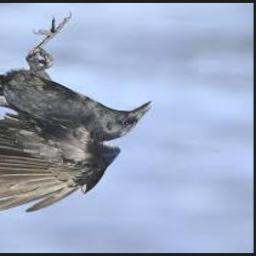Crow: (0, 9, 154, 215)
